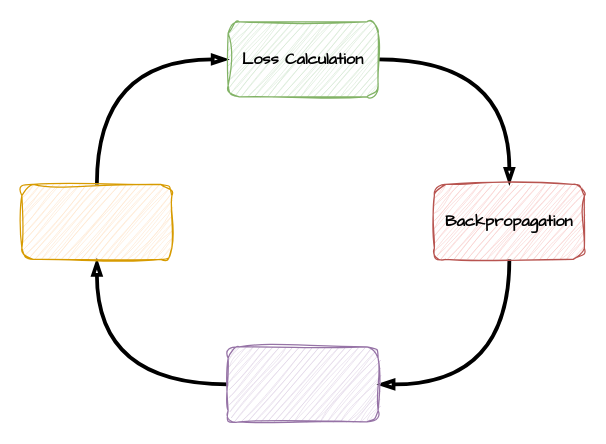
The diagram is 606 pixels wide and 444 high, and some of its shapes have lost their labels. The centre of each missing label's shape, as x and y in pixels:
Forward Pass: point 96,221
Weight Update: point 302,384
